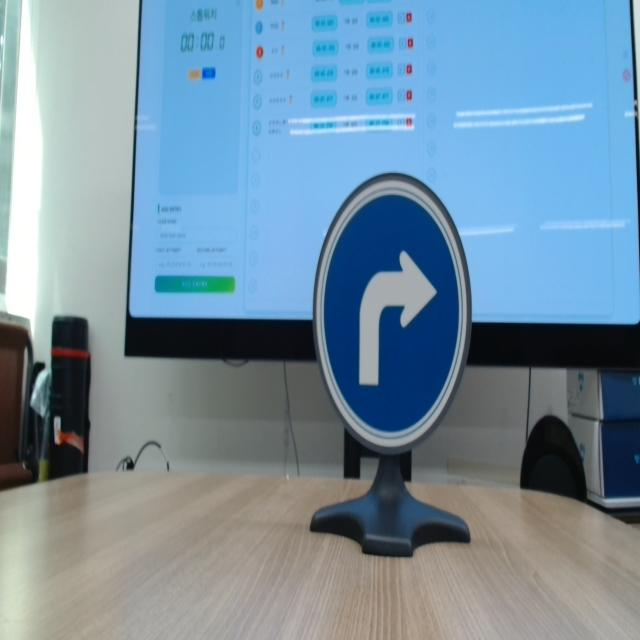right_dierection: (302, 155, 476, 460)
